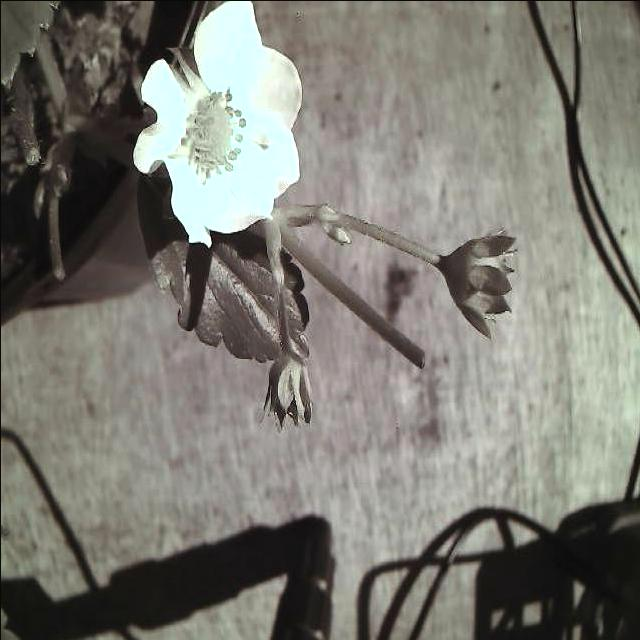flower: (130, 1, 311, 248)
